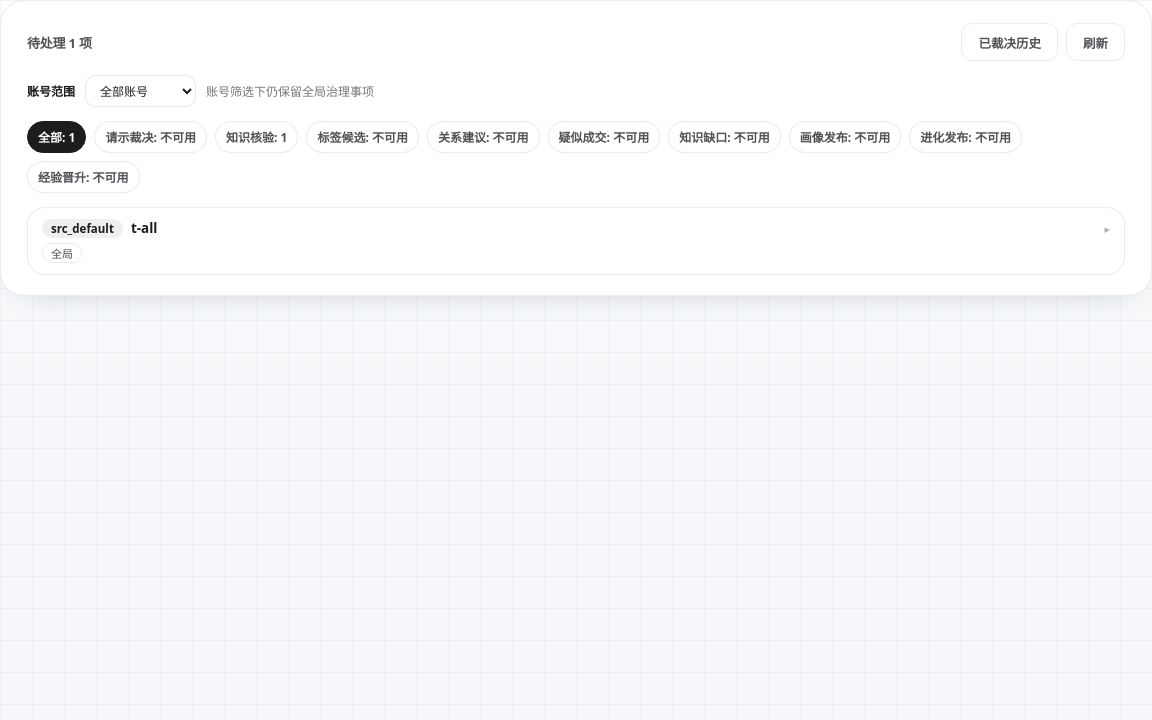
Scenario: AskHumanView 单数据源 › 切源：点 chip 后列表变为该 source 的数据（setActiveSource + nonce + key 时序）
Check: the text "t-all" is shown, box [131,219,158,237]
// chip 文案 "知识核验: 1"。
Click the button "知识核验: 1" at (257, 137), box [215,121,298,153]
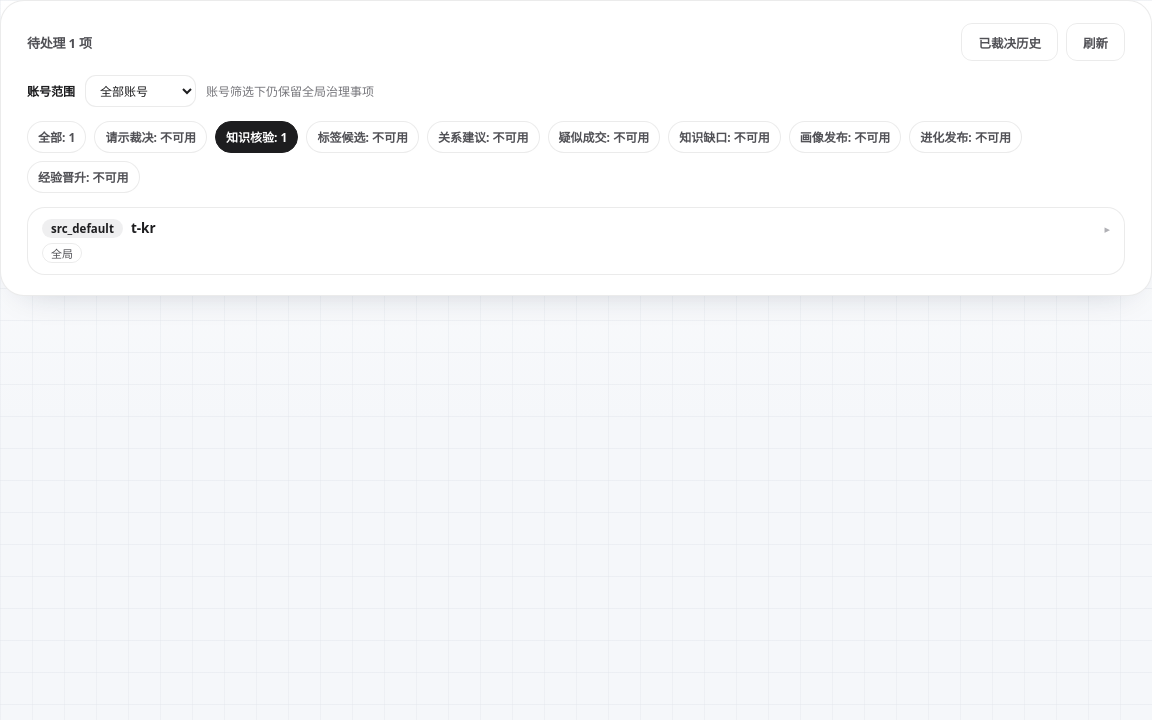
Check: the text "t-kr" is shown, box [131,219,156,237]
Check: the button "t-all" is gone
